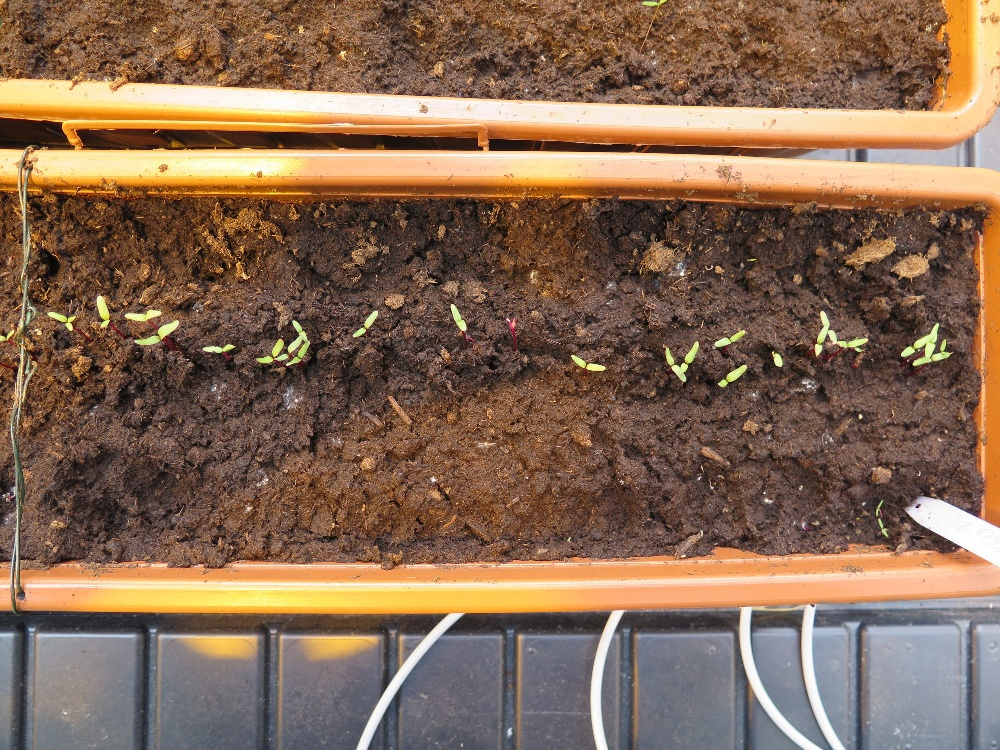crop: (130, 320, 182, 349), (658, 344, 689, 382), (717, 362, 748, 390), (352, 307, 379, 339), (202, 342, 239, 363), (898, 335, 935, 356), (500, 312, 522, 347), (571, 352, 607, 373), (274, 335, 303, 361), (712, 327, 746, 349), (817, 309, 839, 343), (911, 351, 955, 368), (257, 340, 286, 364), (47, 310, 77, 333), (680, 340, 699, 375), (831, 336, 867, 354), (449, 301, 468, 335), (287, 344, 312, 369), (122, 308, 162, 323), (925, 322, 941, 357), (95, 293, 110, 329), (290, 319, 311, 342), (815, 327, 824, 357)
weed: (878, 516, 889, 538)
